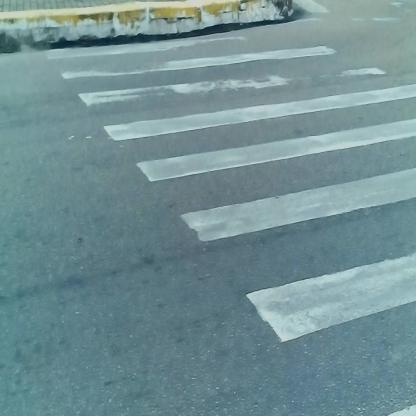crosswalk: (43, 44, 415, 364)
